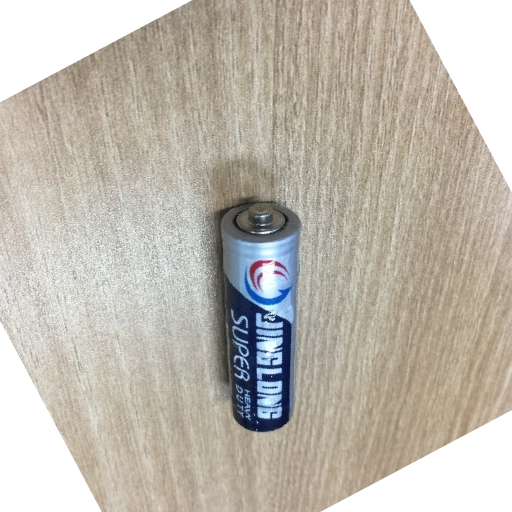Battery_0: (206, 177, 322, 444)
